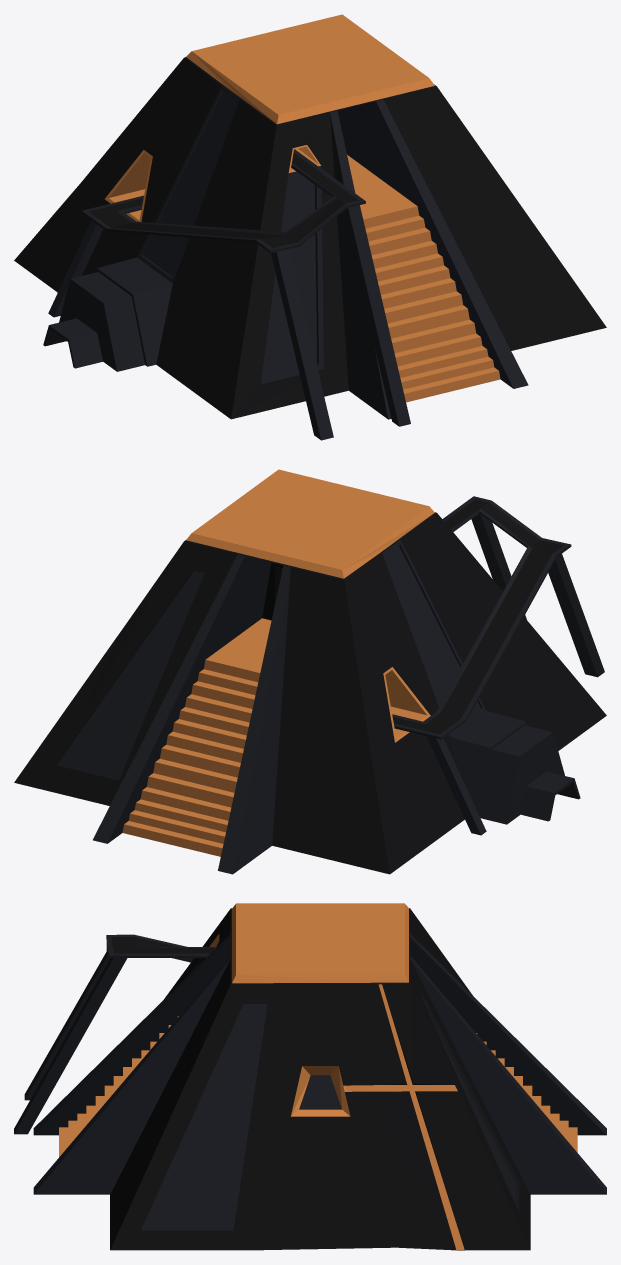
3 renders of one model, top to bottom at view 1: azimuth 30°, elevation 25°; view 2: azimuth 150°, elevation 25°; view 3: azimuth 270°, elevation 25°, orthographic. The views are drawn at different scales.
Visible parts, largest first — view 1: pyramid_3; view 2: pyramid_3; view 3: pyramid_3.
Boxes of the visible parts, x1,y1,x2,y2 form: pyramid_3: (14, 14, 606, 440); pyramid_3: (14, 469, 606, 874); pyramid_3: (14, 903, 606, 1250).
Bounding box in the file's own units: 1495 × 747 × 1797.
